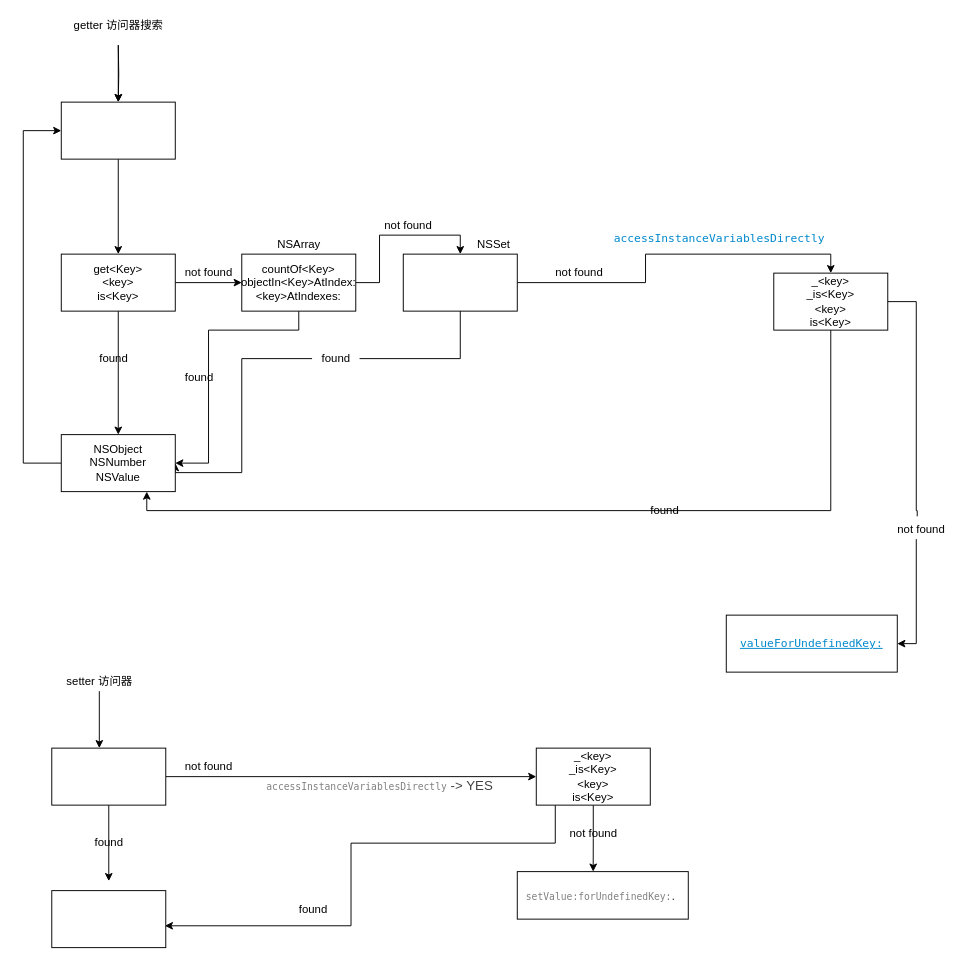
Image size: 971x964. Some labels were removed from this diagram. Each missing label, with the box of its shape:
countOf<Key> enumeratorOf<Key> memberOf<Key>:: (402, 253, 517, 311)
finish: (51, 890, 166, 948)
set<Key>: _set<Key>: (51, 747, 166, 805)
valueForKey:: (60, 101, 175, 159)
